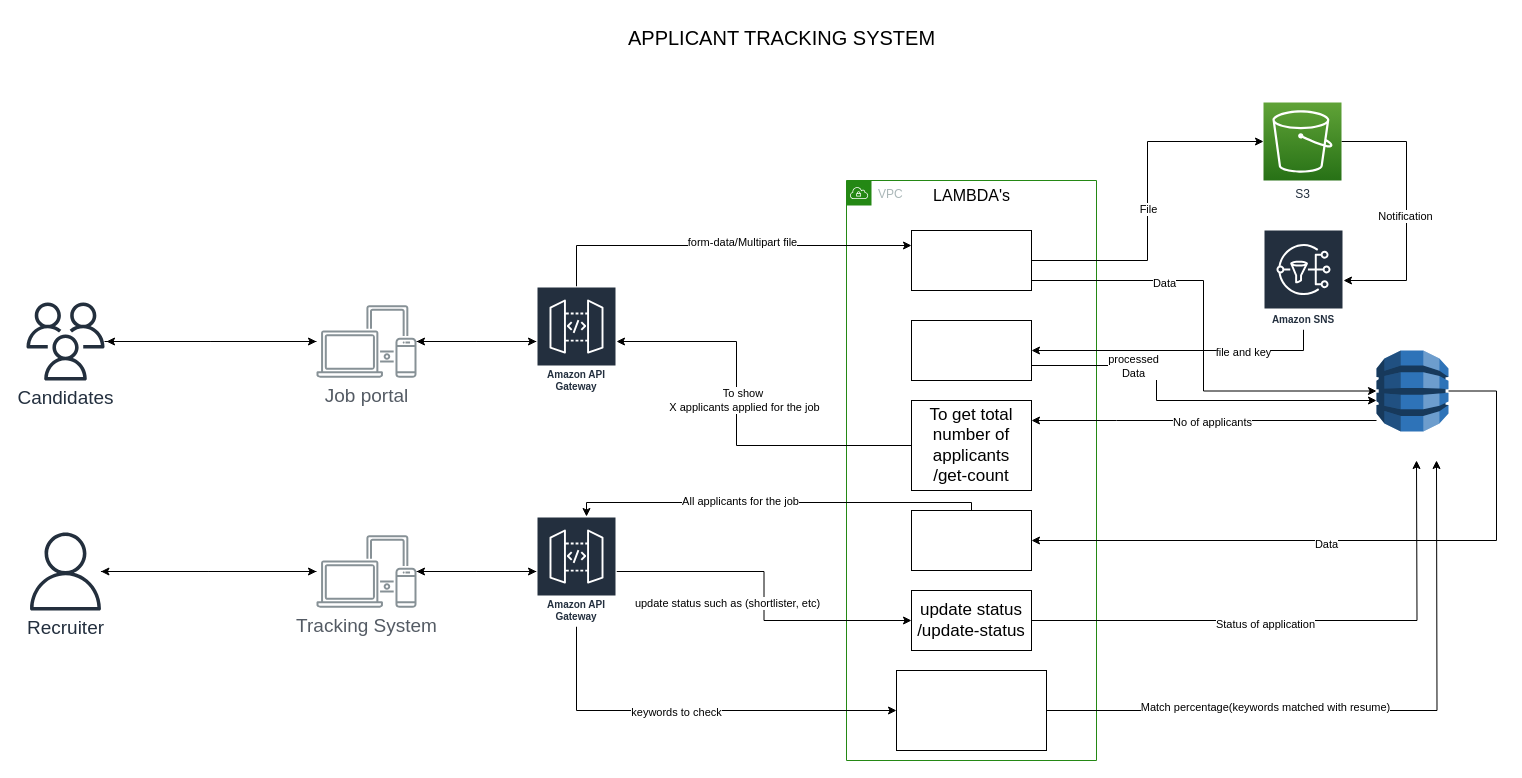
Image size: 1522x778. Some labels were removed from this diagram. Here are the shapes that lost their labels. From the top down, the box of each, then its label:
(910, 230, 1032, 290): File upload /upload
(910, 320, 1032, 380): Process File (Using Textract)
(1376, 350, 1448, 432): Dynamo DB
(910, 510, 1032, 570): Applicant details /get-all-applicants
(896, 670, 1046, 750): To find Match Percentage /match-percentage
